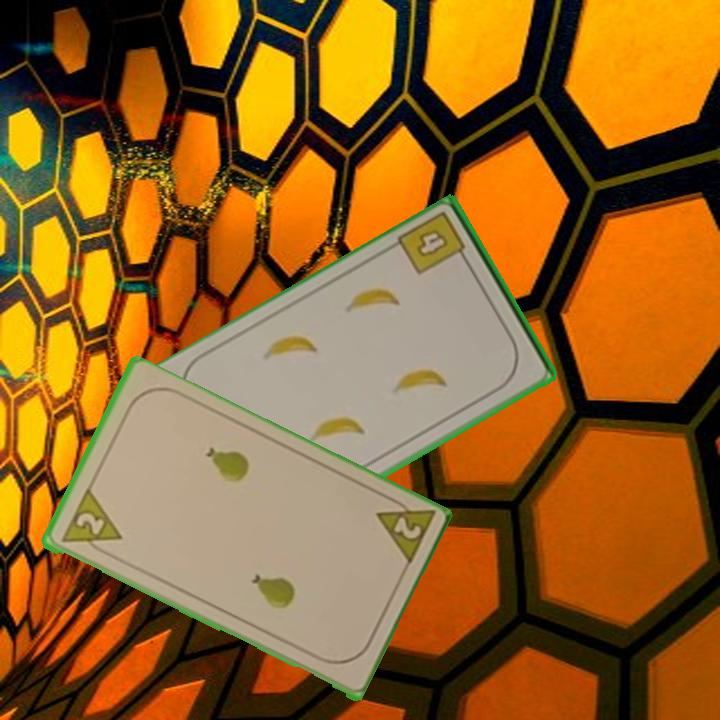2p: (371, 491, 437, 571), (57, 487, 124, 559)
4b: (394, 208, 472, 279)
